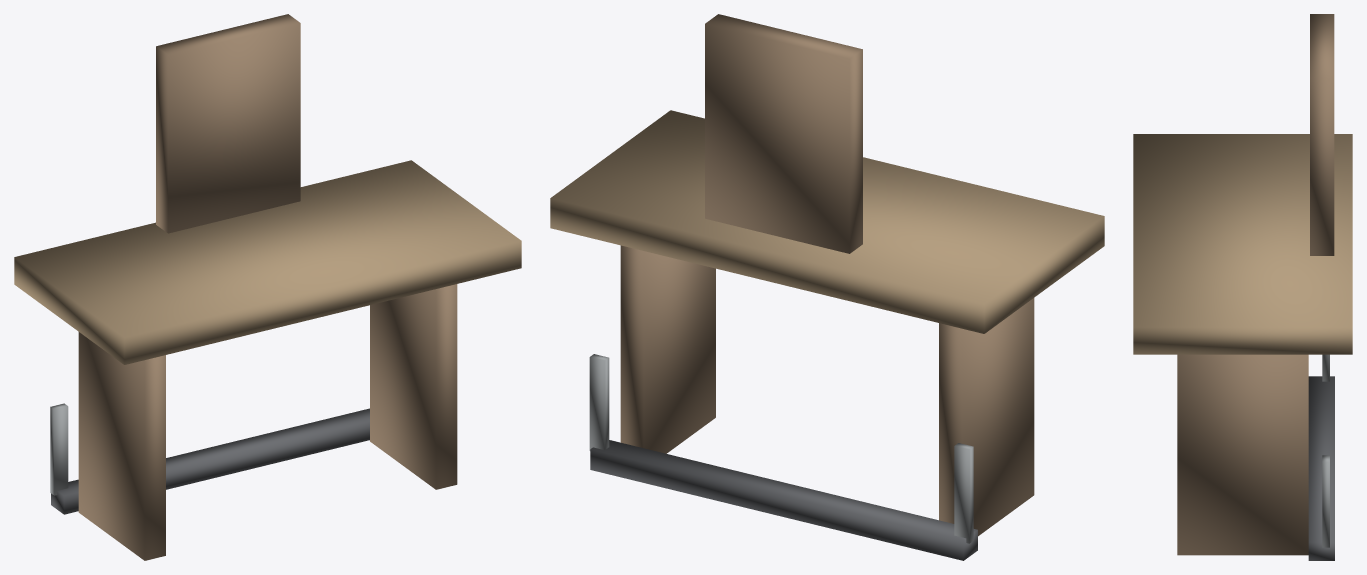
The model's file is altar_table__reinforced.glb.
3 renders of one model, left to right at view 1: azimuth 30°, elevation 25°; view 2: azimuth 150°, elevation 25°; view 3: azimuth 270°, elevation 25°, orthographic. The views are drawn at different scales.
Parts seen in each view (by area): view 1: world; view 2: world; view 3: world.
Boxes of the visible parts, <box> form: world: <box>14,14,521,560</box>; world: <box>550,14,1104,560</box>; world: <box>1133,14,1352,560</box>.
Bounding box in the file's own units: 1.54 × 1.62 × 0.7416.
